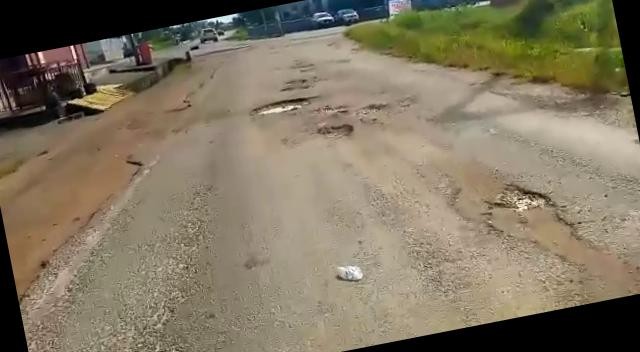pothole: (478, 166, 604, 274), (248, 94, 310, 118), (309, 118, 355, 140)
